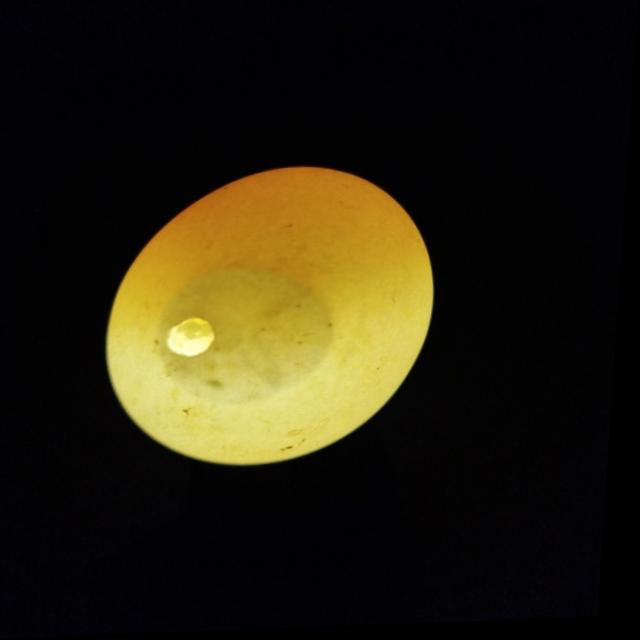Camara de Ar: (162, 271, 338, 407)
